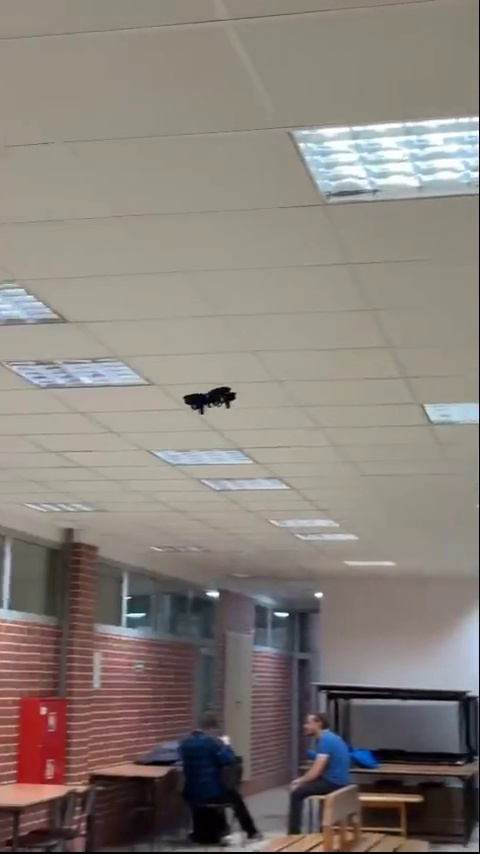drone: (185, 387, 237, 414)
no vest: (175, 711, 264, 841), (282, 705, 355, 817)
